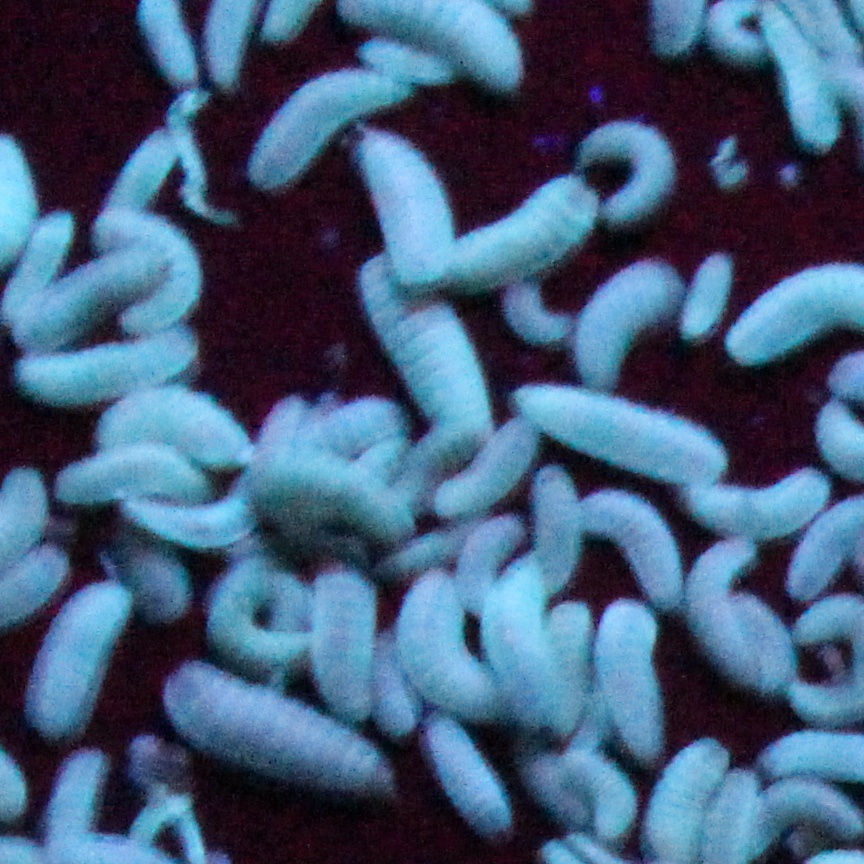larve: (153, 659, 393, 796), (364, 256, 500, 458), (513, 381, 731, 485), (444, 168, 602, 288), (260, 70, 409, 183), (569, 261, 686, 388), (13, 325, 193, 407), (86, 381, 257, 467), (33, 576, 126, 734), (358, 134, 457, 279), (242, 448, 407, 534), (393, 565, 486, 716), (486, 547, 564, 723), (22, 248, 164, 339), (95, 218, 209, 330), (680, 459, 831, 543), (597, 601, 668, 763), (208, 559, 315, 665), (577, 116, 677, 227), (315, 538, 375, 714), (118, 479, 189, 623), (644, 741, 726, 863), (440, 412, 537, 514), (578, 494, 677, 592), (748, 776, 864, 852), (431, 721, 506, 838), (693, 536, 751, 678), (6, 212, 67, 327), (669, 245, 738, 345), (113, 127, 180, 218), (460, 518, 522, 608), (738, 603, 791, 692), (566, 756, 628, 825)
